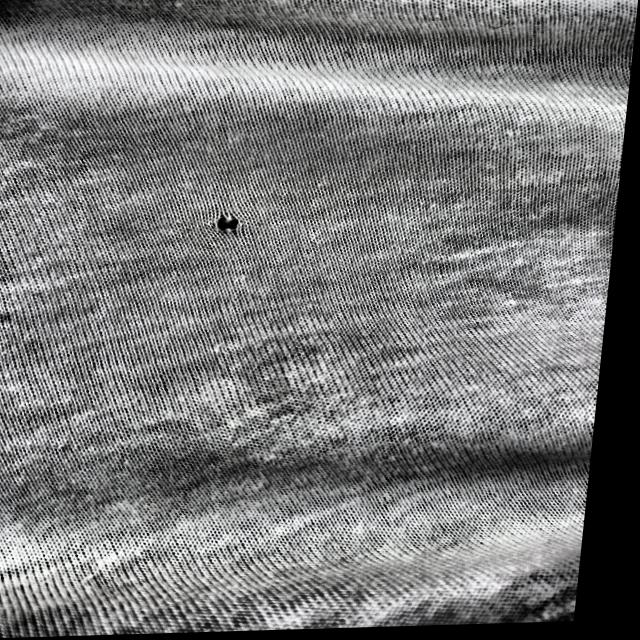Hole: (205, 207, 258, 244)
